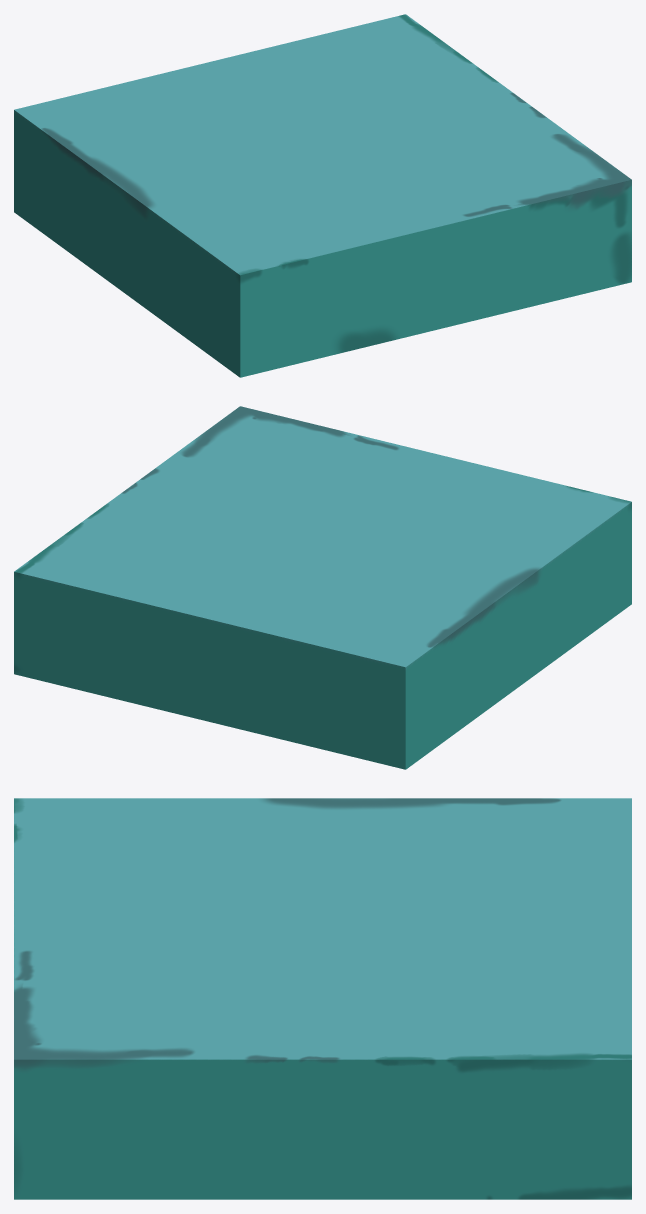
Rendered from Level2_Moving2.fbx.
The picture shows the model from 3 angles, top to bottom: view 1: azimuth 30°, elevation 25°; view 2: azimuth 150°, elevation 25°; view 3: azimuth 270°, elevation 25°; orthographic projection. The views are drawn at different scales.
Visible parts, largest first — view 1: MovingPiece2; view 2: MovingPiece2; view 3: MovingPiece2.
Part boxes in pixels (x1=…): MovingPiece2: x1=14, y1=14, x2=631, y2=377; MovingPiece2: x1=14, y1=406, x2=631, y2=769; MovingPiece2: x1=14, y1=798, x2=631, y2=1199.
Bounding box in the file's own units: 2 × 0.5 × 2.
Materials: 1 (1 with a texture image).
